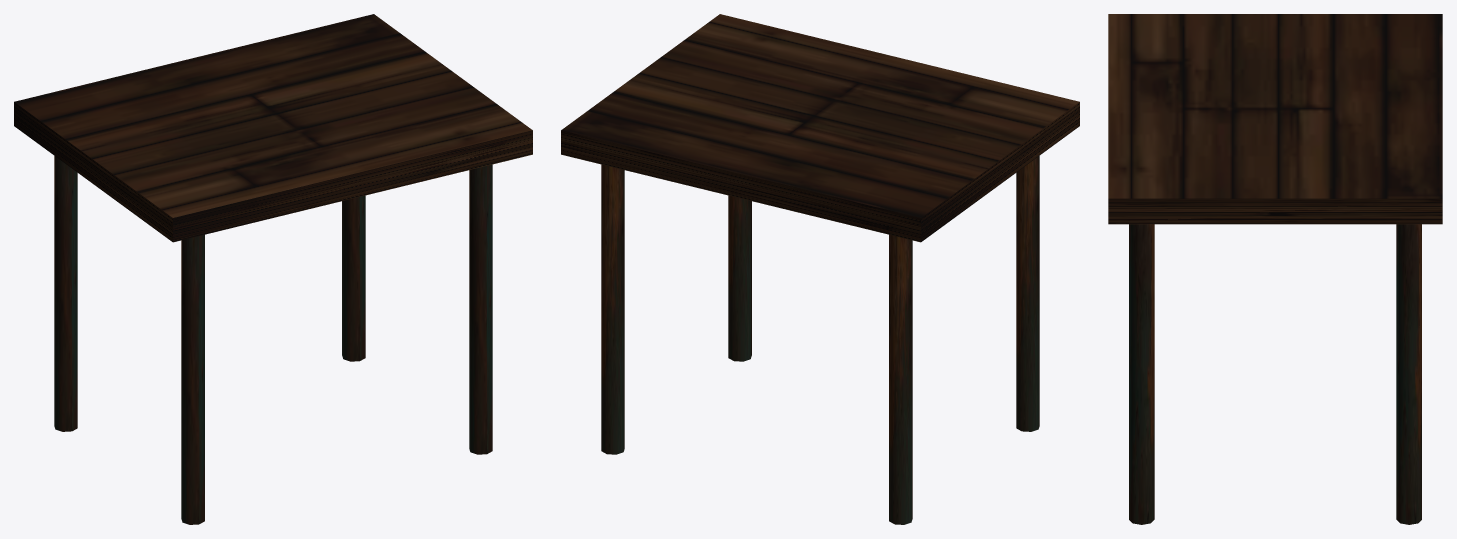
The model's file is loose_table.glb.
The picture shows the model from 3 angles, left to right: view 1: azimuth 30°, elevation 25°; view 2: azimuth 150°, elevation 25°; view 3: azimuth 270°, elevation 25°; orthographic projection. The views are drawn at different scales.
Visible parts, largest first — view 1: SplitWoodTop, _MeshInstance3D_39856, _MeshInstance3D_39854, _MeshInstance3D_39853, _MeshInstance3D_39855; view 2: SplitWoodTop, _MeshInstance3D_39855, _MeshInstance3D_39853, _MeshInstance3D_39854, _MeshInstance3D_39856; view 3: SplitWoodTop, _MeshInstance3D_39855, _MeshInstance3D_39856.
Boxes of the visible parts, x1,y1,x2,y2 form: SplitWoodTop: [14, 14, 532, 242]; _MeshInstance3D_39856: [469, 164, 492, 454]; _MeshInstance3D_39854: [181, 234, 204, 524]; _MeshInstance3D_39853: [54, 156, 77, 431]; _MeshInstance3D_39855: [342, 195, 365, 361]; SplitWoodTop: [561, 14, 1079, 242]; _MeshInstance3D_39855: [601, 164, 624, 454]; _MeshInstance3D_39853: [889, 234, 912, 524]; _MeshInstance3D_39854: [1016, 156, 1039, 431]; _MeshInstance3D_39856: [728, 195, 751, 361]; SplitWoodTop: [1108, 14, 1442, 224]; _MeshInstance3D_39855: [1396, 224, 1421, 524]; _MeshInstance3D_39856: [1129, 224, 1154, 524].
Bounding box in the file's own units: 0.85 × 0.7275 × 0.65.
Materials: 2 (2 with a texture image).
